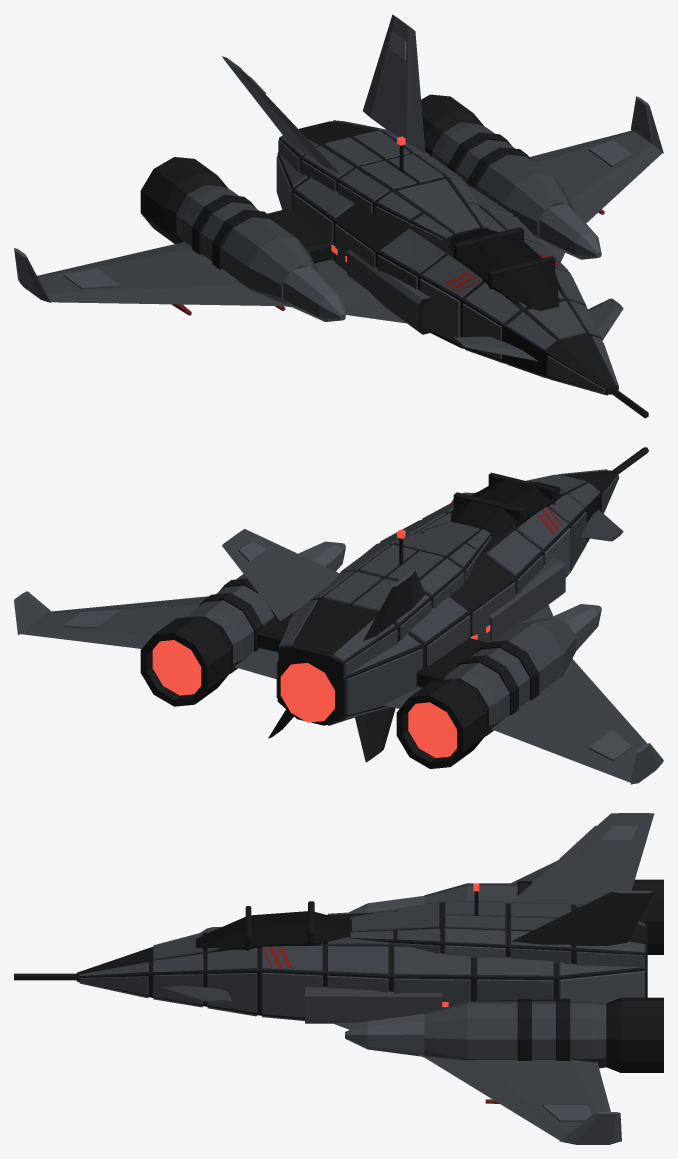
The model's file is pirate_elite.glb.
The picture shows the model from 3 angles, top to bottom: view 1: azimuth 30°, elevation 25°; view 2: azimuth 150°, elevation 25°; view 3: azimuth 270°, elevation 25°; orthographic projection. The views are drawn at different scales.
Visible parts, largest first — view 1: primary, structure, accent, glass; view 2: primary, structure, engineGlow, accent, glass; view 3: primary, structure, accent, glass.
Boxes of the visible parts, x1,y1,x2,y2 form: primary: (18, 14, 662, 395); structure: (140, 94, 648, 418); accent: (14, 31, 663, 343); glass: (448, 229, 561, 311); primary: (21, 469, 663, 783); structure: (140, 447, 648, 768); engineGlow: (152, 640, 456, 757); accent: (14, 528, 663, 784); glass: (450, 480, 562, 533); primary: (79, 813, 654, 1144); structure: (14, 879, 663, 1072); accent: (345, 825, 644, 1143); glass: (196, 911, 348, 951).
Size of the model in its own units: 22.37 by 6.59 by 21.3.
